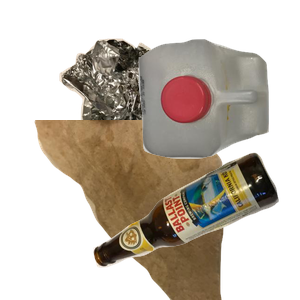glass: (91, 150, 300, 300)
metal: (57, 36, 241, 216)
plastic: (136, 37, 300, 188)
trash: (32, 120, 248, 300)
